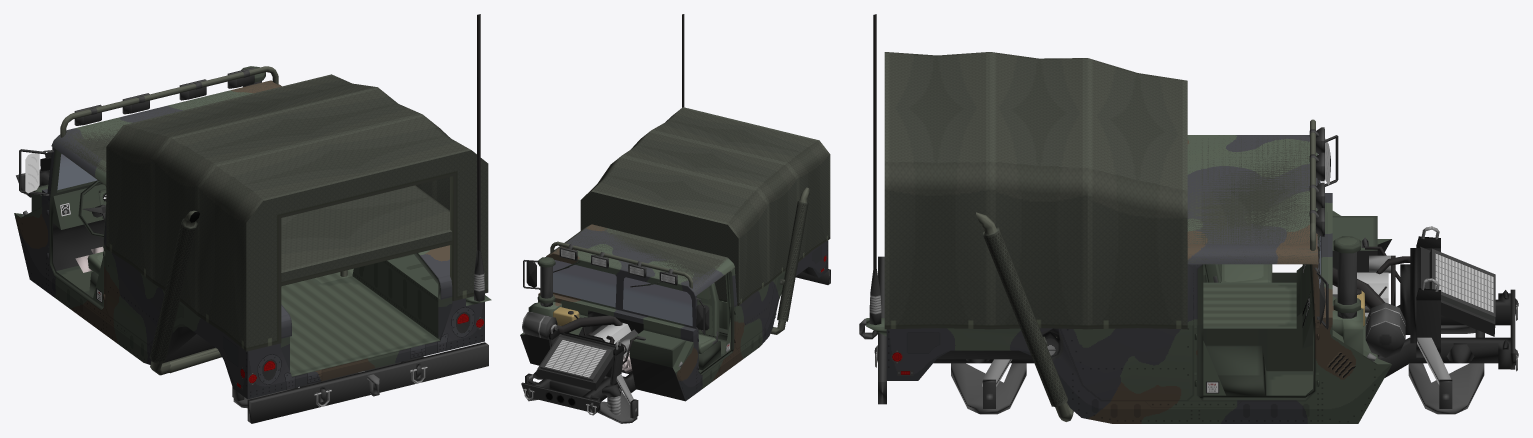
File: Vehicles_ag_hmmwv_92.fbx
The picture shows the model from 3 angles, left to right: view 1: azimuth 30°, elevation 25°; view 2: azimuth 150°, elevation 25°; view 3: azimuth 270°, elevation 25°; orthographic projection. The views are drawn at different scales.
Parts seen in each view (by area): view 1: covercargocanvas, body, covercanvas, bumperrear, doorfiller, mufflerperformance, roofhard, toplights, roofsoft, windshieldframe_4d, radioantenna, covershell (+3 smaller); view 2: covercargocanvas, body, windshield, roofsoft, roofhard, windshieldframe_4d, mufflerperformance, doorfiller, toplights, roofcargohard, bumperfront, seatfront; view 3: covercargocanvas, body, roofhard, roofsoft, doorfiller, mufflerperformance, roofcargohard, windshieldframe_4d, radioantenna, toplights, seatfront, bumperrear.
Boxes of the visible parts, x1,y1,x2,y2 form: covercargocanvas: (106, 74, 488, 351); body: (14, 152, 484, 408); covercanvas: (281, 185, 452, 286); bumperrear: (247, 342, 488, 423); doorfiller: (104, 212, 353, 344); mufflerperformance: (149, 66, 265, 375); roofhard: (51, 80, 281, 172); toplights: (60, 66, 278, 137); roofsoft: (53, 81, 280, 185); windshieldframe_4d: (19, 147, 106, 241); radioantenna: (466, 14, 491, 305); covershell: (281, 245, 452, 338); covercargocanvas: (580, 107, 830, 305); body: (520, 240, 828, 423); windshield: (553, 260, 692, 326); roofsoft: (547, 225, 734, 294); roofhard: (546, 224, 733, 296); windshieldframe_4d: (523, 254, 734, 334); mufflerperformance: (537, 187, 809, 334); doorfiller: (719, 268, 775, 349); toplights: (550, 241, 692, 288); roofcargohard: (555, 249, 734, 295); bumperfront: (521, 382, 600, 415); seatfront: (697, 283, 719, 354); covercargocanvas: (884, 52, 1187, 329); body: (886, 193, 1510, 423); roofhard: (1187, 135, 1318, 264); roofsoft: (1187, 135, 1318, 264); doorfiller: (1060, 264, 1201, 400); mufflerperformance: (976, 212, 1360, 421); roofcargohard: (1187, 135, 1318, 264); windshieldframe_4d: (1188, 135, 1338, 329); radioantenna: (866, 14, 886, 336); toplights: (1309, 119, 1324, 250); seatfront: (1203, 264, 1272, 282); bumperrear: (859, 256, 886, 404).
Size of the model in its own units: 255 by 329 by 476.
